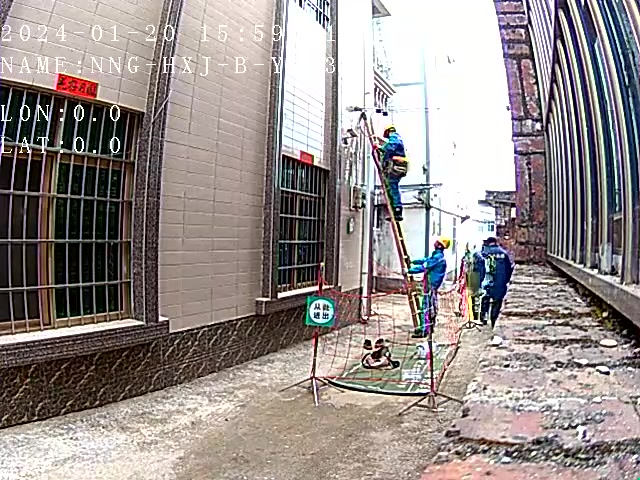halt: (436, 237, 454, 253), (386, 127, 399, 138)
